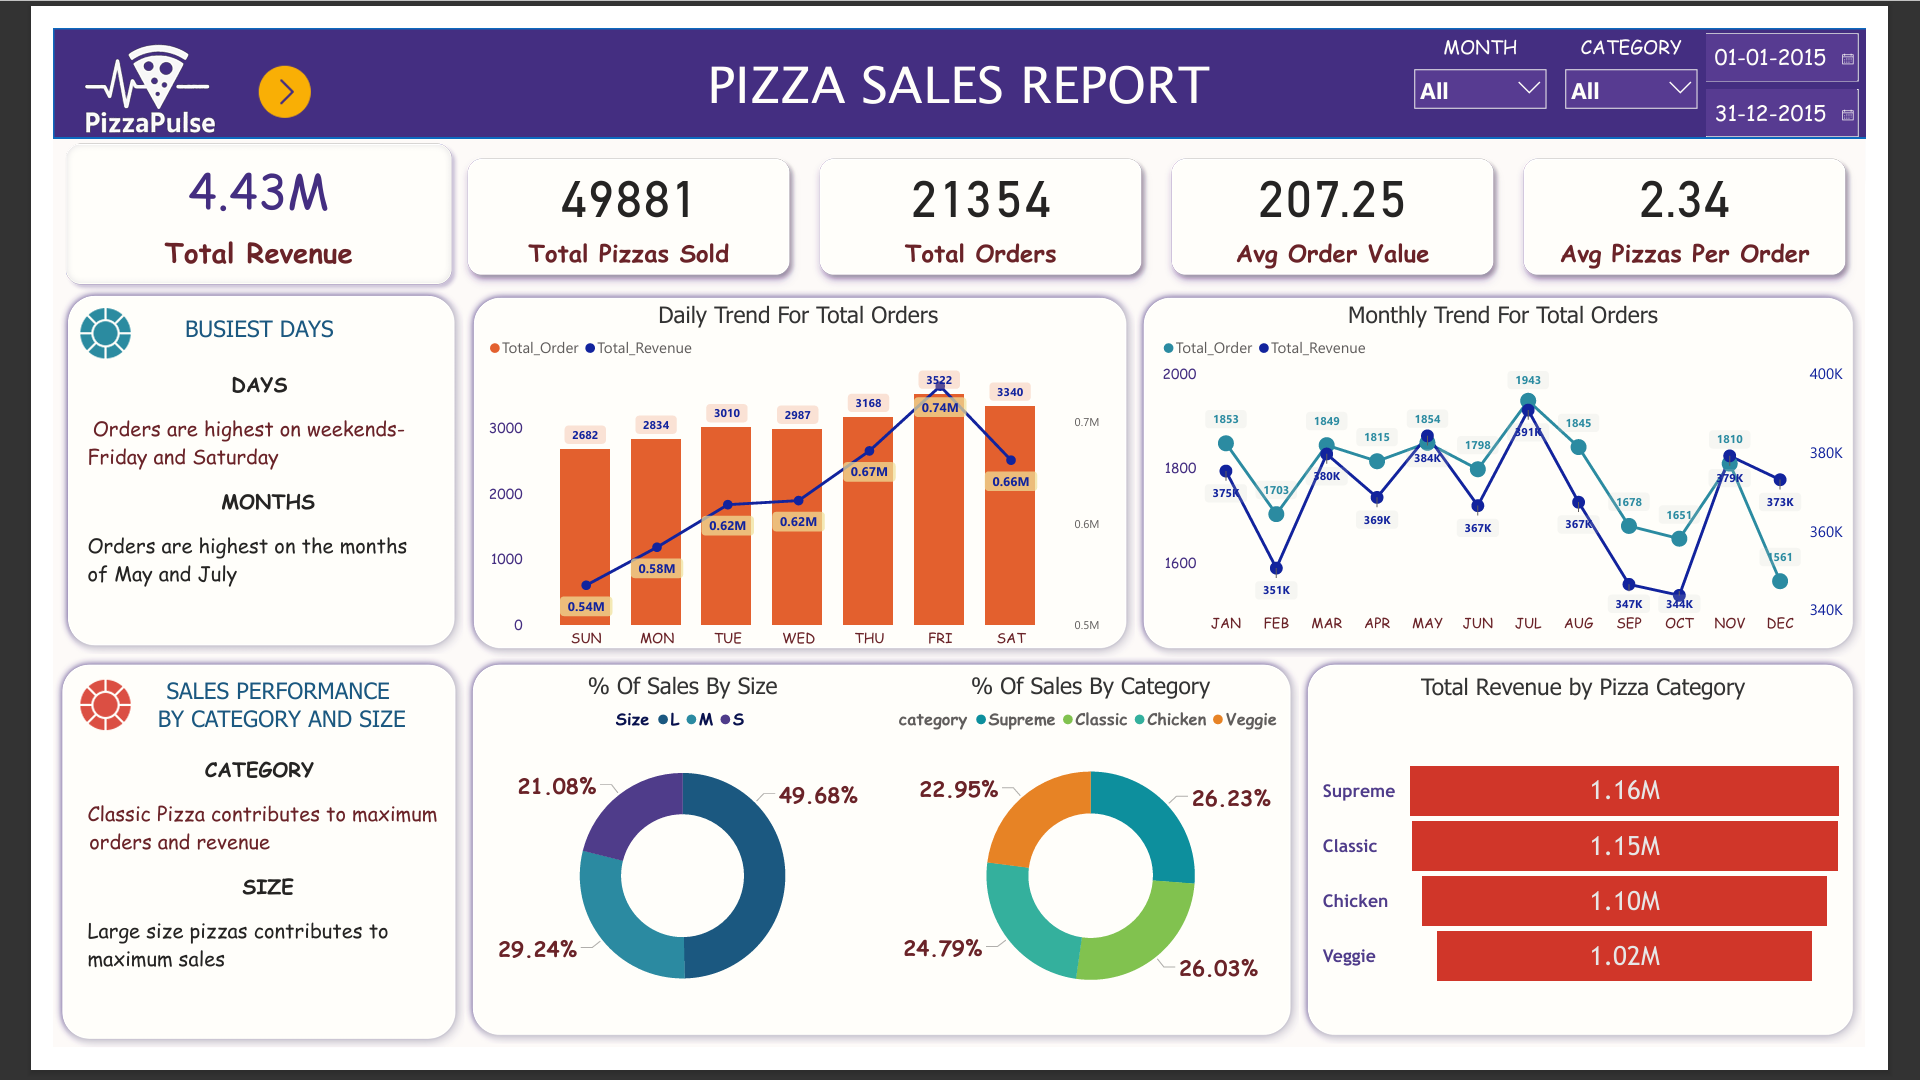

What the dashboard file says about the page in this screenshot:
{"tool":"powerbi","page":{"name":"Main Dashbord","canvas":[1920,1080],"ordinal":0},"visuals":[{"type":"shape","box":[0,0,1922,116],"z":0},{"type":"shape","box":[0,665.5,435,415],"z":0,"group":"g1"},{"type":"shape","box":[435,665,885,415],"z":1000},{"type":"shape","box":[1146,276,774,390],"z":2000},{"type":"shape","box":[436,276,710,390],"z":3000},{"type":"shape","box":[0,274.5,436,390],"z":4000,"group":"g1"},{"type":"cardVisual","fields":{"Data":["measures_table.Total_Pizzas_Sold","measures_table.Total_Order","measures_table.Average_Order_value","measures_table.Average_Pizzas_Per_Order"]},"box":[417.8,116.6,1503.5,160.3],"z":4000},{"type":"shape","box":[1320,665,600,415],"z":5000},{"type":"donutChart","title":"% Of Sales By Size","fields":{"Category":["dim_pizzas_table.pizza_size"],"Y":["measures_table.Total_Revenue"]},"box":[455.8,681.4,420.9,372.1],"z":6000},{"type":"textbox","box":[68,298.5,300,48],"z":7000,"group":"g1"},{"type":"cardVisual","fields":{"Data":["measures_table.Total_Revenue"]},"box":[0,102,435,186],"z":7000},{"type":"lineChart","title":"Monthly Trend For Total Orders","fields":{"Category":["dim_dates_table.Months"],"Y":["measures_table.Total_Order"],"Y2":["measures_table.Total_Revenue"]},"box":[1170,288,732,362],"z":8000},{"type":"lineClusteredColumnComboChart","title":"Daily Trend For Total Orders","fields":{"Category":["dim_dates_table.day_name"],"Y":["measures_table.Total_Order"],"Y2":["measures_table.Total_Revenue"]},"box":[456,288,666,378],"z":9000},{"type":"textbox","box":[88,682.5,300,68],"z":9000,"group":"g1"},{"type":"funnel","fields":{"Category":["dim_pizzas_table.pizza_category"],"Y":["measures_table.Total_Revenue"]},"box":[1340,682,562,398],"z":10000},{"type":"donutChart","title":"% Of Sales By Category","fields":{"Category":["dim_pizzas_table.pizza_category"],"Y":["measures_table.Total_Revenue"]},"box":[876.7,681.4,444.2,372.1],"z":11000},{"type":"textbox","box":[536,16,846,100],"z":12000},{"type":"slicer","title":"MONTH","fields":{"Values":["dim_dates_table.Months"]},"box":[1432,0,160,118],"z":13000},{"type":"textbox","box":[18,356.5,400,290],"z":13000,"group":"g1"},{"type":"slicer","fields":{"Values":["dim_dates_table.order_date"]},"box":[1738,0,182,128],"z":14000},{"type":"slicer","title":"CATEGORY","fields":{"Values":["dim_pizzas_table.pizza_category"]},"box":[1592,0,160,118],"z":15000},{"type":"textbox","box":[18,764.5,400,316],"z":15000,"group":"g1"},{"type":"image","box":[0,0,201.6,145.7],"z":16000},{"type":"image","box":[201.6,31.6,85,70.4],"z":17000},{"type":"group","id":"g1","title":"Group 1","box":[0,274.5,437.2,806.4],"z":18000},{"type":"image","box":[19.4,682.5,70.4,68],"z":19000},{"type":"image","box":[4.9,289,99.6,68],"z":20000}]}

Visuals, with their boxes in screenshot pixels (x1, y1, x2, y2), scaled from the page's 1920x1080 canvas onto the 1920x1080 screenshot:
shape: 0:0:1919:116
shape: 0:666:435:1079
shape: 435:665:1320:1079
shape: 1146:276:1919:666
shape: 436:276:1146:666
shape: 0:274:436:664
cardVisual - measures_table.Total_Pizzas_Sold x measures_table.Total_Order: 418:117:1919:277
shape: 1320:665:1919:1079
"% Of Sales By Size" donutChart: 456:681:877:1054
textbox: 68:298:368:346
cardVisual - measures_table.Total_Revenue: 0:102:435:288
"Monthly Trend For Total Orders" lineChart: 1170:288:1902:650
"Daily Trend For Total Orders" lineClusteredColumnComboChart: 456:288:1122:666
textbox: 88:682:388:750
funnel - dim_pizzas_table.pizza_category x measures_table.Total_Revenue: 1340:682:1902:1079
"% Of Sales By Category" donutChart: 877:681:1321:1054
textbox: 536:16:1382:116
"MONTH" slicer: 1432:0:1592:118
textbox: 18:356:418:646
slicer - dim_dates_table.order_date: 1738:0:1919:128
"CATEGORY" slicer: 1592:0:1752:118
textbox: 18:764:418:1079
image: 0:0:202:146
image: 202:32:287:102
"Group 1" group: 0:274:437:1079
image: 19:682:90:750
image: 5:289:104:357
